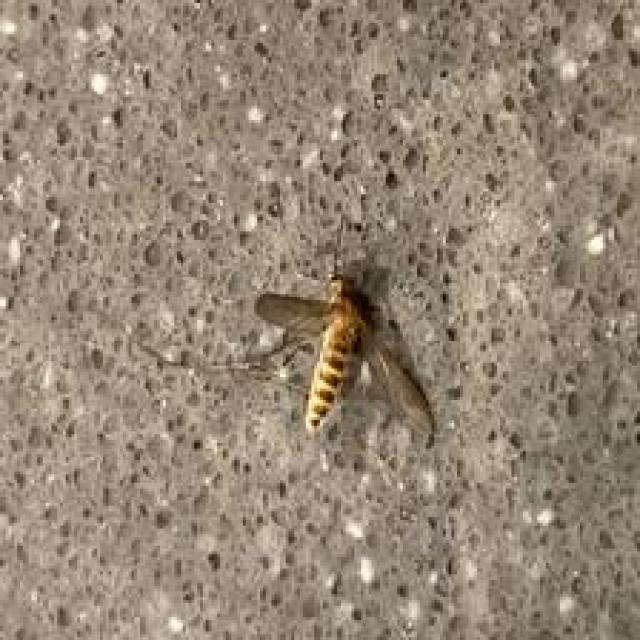Culex: (138, 261, 438, 450)
